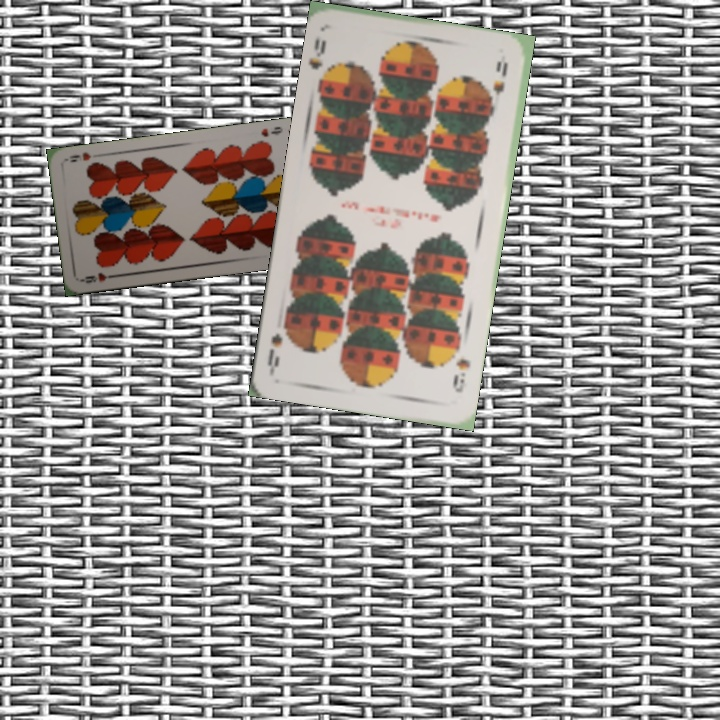H9: (78, 268, 119, 286), (257, 122, 286, 140)
S9: (448, 354, 473, 396), (307, 34, 329, 72)
